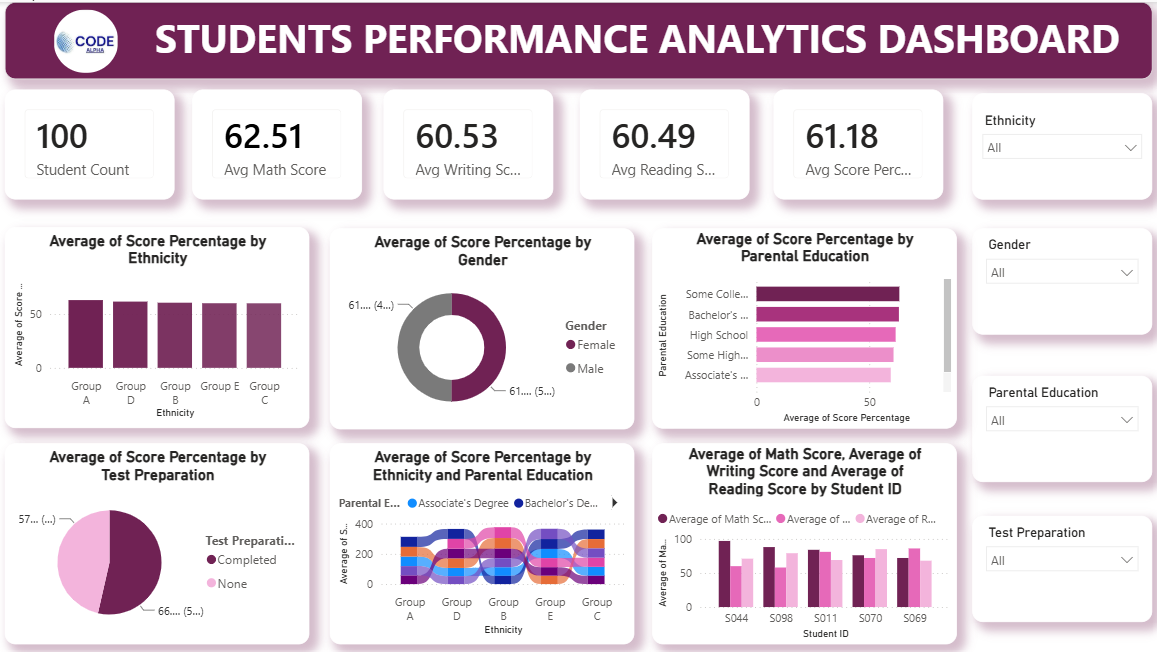

What the dashboard file says about the page in this screenshot:
{"tool":"powerbi","page":{"name":"Page 1","canvas":[1280,720],"ordinal":0},"visuals":[{"type":"textbox","box":[9.6,0,1259.7,85],"z":0},{"type":"image","box":[62.5,8.3,70.8,69.4],"z":1},{"type":"cardVisual","fields":{"Data":["Count(Sheet1.Student ID)"]},"box":[9.7,95.8,186.1,120.8],"z":2},{"type":"cardVisual","fields":{"Data":["Avg(Sheet1.Math Score)"]},"box":[215.3,95.8,186.1,120.8],"z":3},{"type":"cardVisual","fields":{"Data":["Avg(Sheet1.Writing Score)"]},"box":[425,95.8,186.1,120.8],"z":4},{"type":"cardVisual","fields":{"Data":["Avg(Sheet1.Reading Score)"]},"box":[640.3,95.8,186.1,120.8],"z":5},{"type":"cardVisual","fields":{"Data":["Avg(Sheet1.Score Percentage)"]},"box":[854.2,95.8,186.1,120.8],"z":6},{"type":"slicer","fields":{"Values":["Sheet1.Ethnicity"]},"box":[1072.2,100,197.2,116.7],"z":7},{"type":"slicer","fields":{"Values":["Sheet1.Gender"]},"box":[1072.2,248.6,197.2,116.7],"z":8},{"type":"slicer","fields":{"Values":["Sheet1.Parental Education"]},"box":[1072.2,409.7,197.2,116.7],"z":9},{"type":"columnChart","fields":{"Y":["Avg(Sheet1.Score Percentage)"],"Category":["Sheet1.Ethnicity"]},"box":[9.7,247.2,334.7,220.8],"z":10},{"type":"donutChart","fields":{"Category":["Sheet1.Gender"],"Y":["Avg(Sheet1.Score Percentage)"]},"box":[366.7,248.6,334.7,220.8],"z":11},{"type":"clusteredBarChart","fields":{"Y":["Avg(Sheet1.Score Percentage)"],"Category":["Sheet1.Parental Education"]},"box":[720.8,248.6,334,220],"z":12},{"type":"pieChart","fields":{"Category":["Sheet1.Test Preparation"],"Y":["Avg(Sheet1.Score Percentage)"]},"box":[9.7,484.7,334.7,220.8],"z":13},{"type":"ribbonChart","fields":{"Y":["Avg(Sheet1.Score Percentage)"],"Series":["Sheet1.Parental Education"],"Category":["Sheet1.Ethnicity"]},"box":[366.7,484.7,334.7,220.8],"z":14},{"type":"clusteredColumnChart","fields":{"Y":["Avg(Sheet1.Math Score)","Avg(Sheet1.Writing Score)","Avg(Sheet1.Reading Score)"],"Category":["Sheet1.Student ID"]},"box":[721,485,334,221],"z":15},{"type":"slicer","fields":{"Values":["Sheet1.Test Preparation"]},"box":[1072.2,563.9,197.2,116.7],"z":16}]}

Visuals, with their boxes in screenshot pixels (x1, y1, x2, y2), scaled from the page's 1280x720 canvas onto the 1157x652 screenshot:
textbox: locate(9, 0, 1147, 77)
image: locate(56, 8, 120, 70)
cardVisual - Count(Sheet1.Student ID): locate(9, 87, 177, 196)
cardVisual - Avg(Sheet1.Math Score): locate(195, 87, 363, 196)
cardVisual - Avg(Sheet1.Writing Score): locate(384, 87, 552, 196)
cardVisual - Avg(Sheet1.Reading Score): locate(579, 87, 747, 196)
cardVisual - Avg(Sheet1.Score Percentage): locate(772, 87, 940, 196)
slicer - Sheet1.Ethnicity: locate(969, 91, 1147, 196)
slicer - Sheet1.Gender: locate(969, 225, 1147, 331)
slicer - Sheet1.Parental Education: locate(969, 371, 1147, 477)
columnChart - Avg(Sheet1.Score Percentage) x Sheet1.Ethnicity: locate(9, 224, 311, 424)
donutChart - Sheet1.Gender x Avg(Sheet1.Score Percentage): locate(331, 225, 634, 425)
clusteredBarChart - Avg(Sheet1.Score Percentage) x Sheet1.Parental Education: locate(652, 225, 953, 424)
pieChart - Sheet1.Test Preparation x Avg(Sheet1.Score Percentage): locate(9, 439, 311, 639)
ribbonChart - Avg(Sheet1.Score Percentage) x Sheet1.Parental Education: locate(331, 439, 634, 639)
clusteredColumnChart - Avg(Sheet1.Math Score) x Avg(Sheet1.Writing Score): locate(652, 439, 954, 639)
slicer - Sheet1.Test Preparation: locate(969, 511, 1147, 616)
